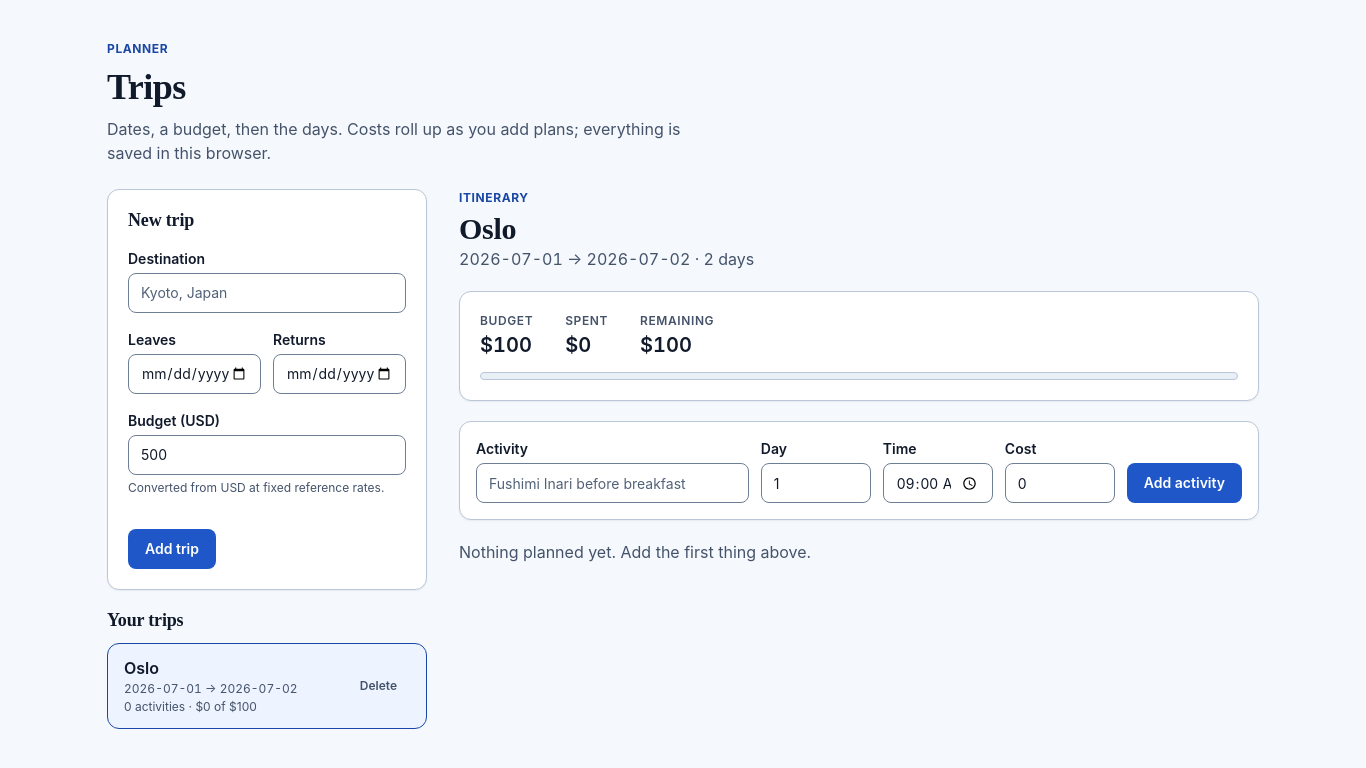
it: TripsView › removes a trip and returns to the empty state
Click the button with class "remove" at (378, 686), box [347,670,410,702]
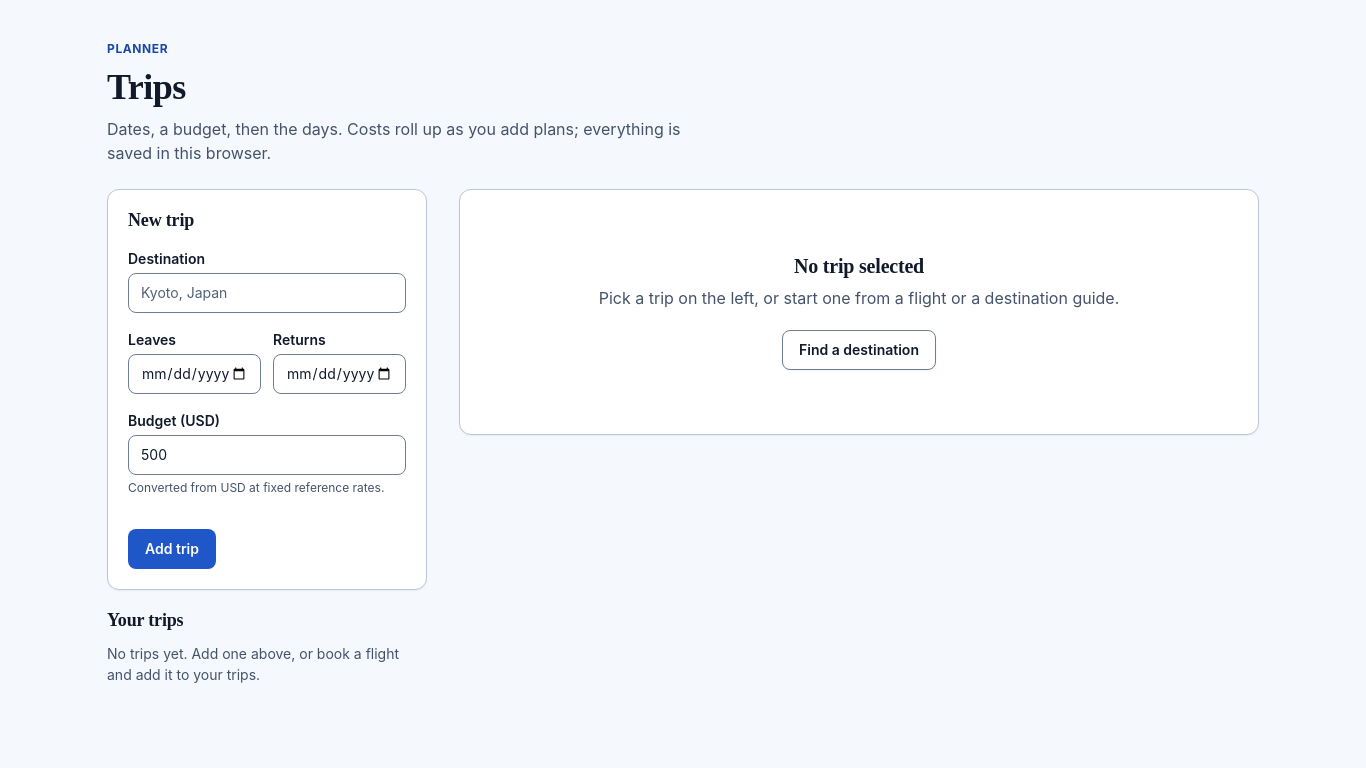
expect the text "No trip selected" is shown: met, box [794,254,924,278]
